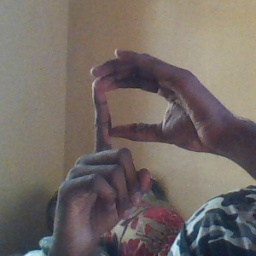P: (63, 44, 210, 216)
